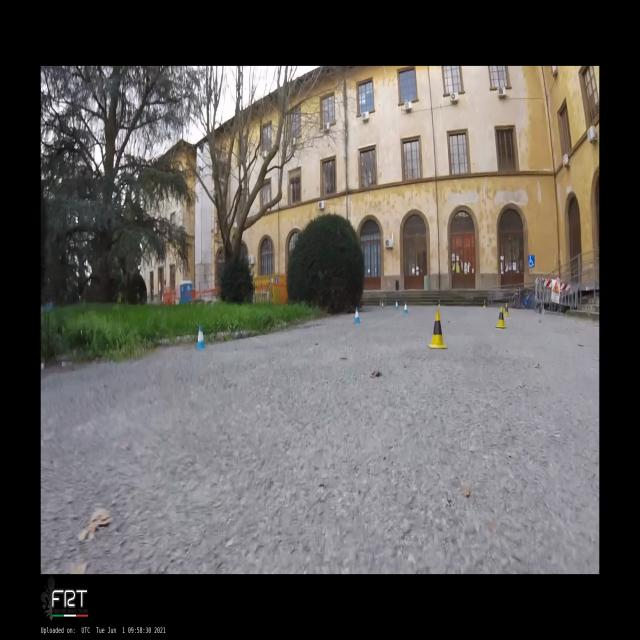blue_cone: (196, 325, 206, 349), (353, 307, 361, 324), (403, 302, 408, 314), (395, 300, 398, 310)
yellow_cone: (427, 311, 447, 349), (495, 306, 506, 328), (504, 302, 509, 316), (483, 299, 486, 308), (438, 300, 440, 306)
